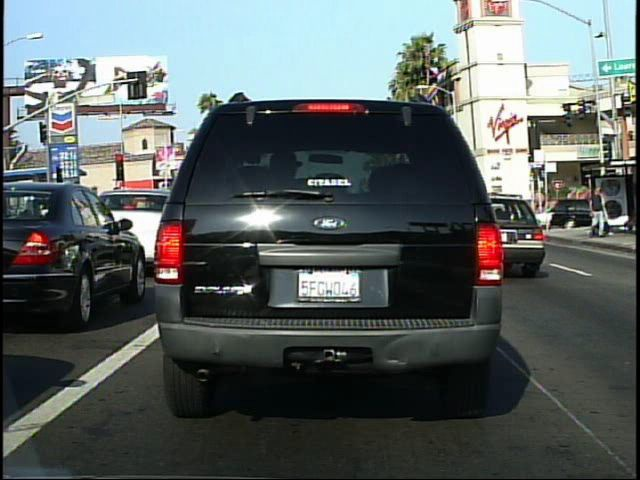person: (587, 185, 608, 242), (596, 184, 615, 241)
